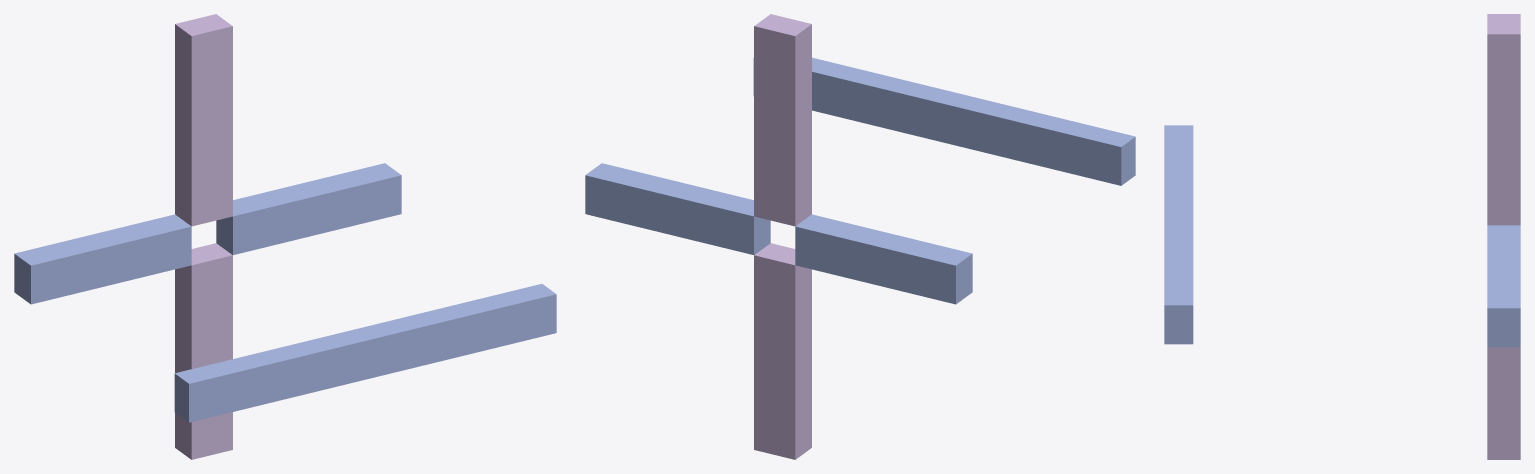
The model's file is tinker.obj.
3 views of the same model, side by side, from view 1: azimuth 30°, elevation 25°; view 2: azimuth 150°, elevation 25°; view 3: azimuth 270°, elevation 25° (orthographic).
Visible parts, largest first — view 1: group_0_11452141, group_0_13877221; view 2: group_0_11452141, group_0_13877221; view 3: group_0_13877221, group_0_11452141.
Part boxes in pixels (left/top/right/bottom): group_0_11452141: left=14, top=163, right=556, bottom=422; group_0_13877221: left=175, top=14, right=232, bottom=459; group_0_11452141: left=585, top=57, right=1135, bottom=304; group_0_13877221: left=754, top=14, right=811, bottom=459; group_0_13877221: left=1487, top=14, right=1520, bottom=459; group_0_11452141: left=1164, top=125, right=1520, bottom=347.
Bounding box in the file's own units: 90.6 × 98.3 × 74.54.
